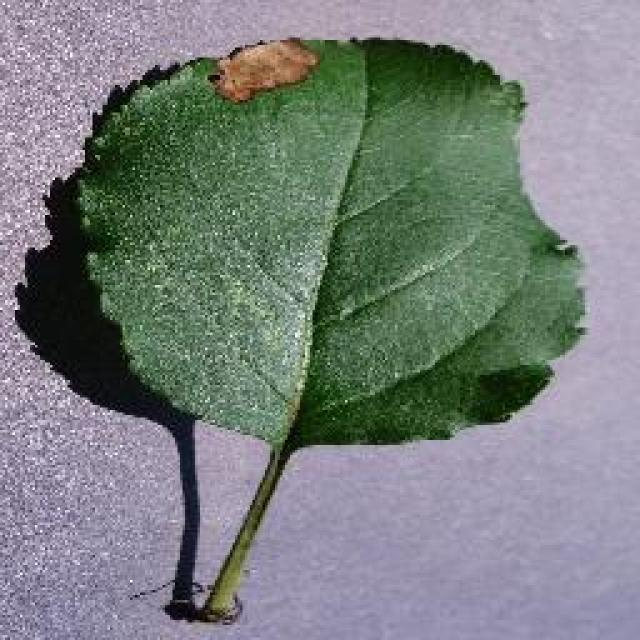Apple___Black_rot: (68, 34, 595, 455)
